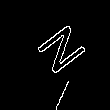N_SW: (25, 18, 85, 80)
